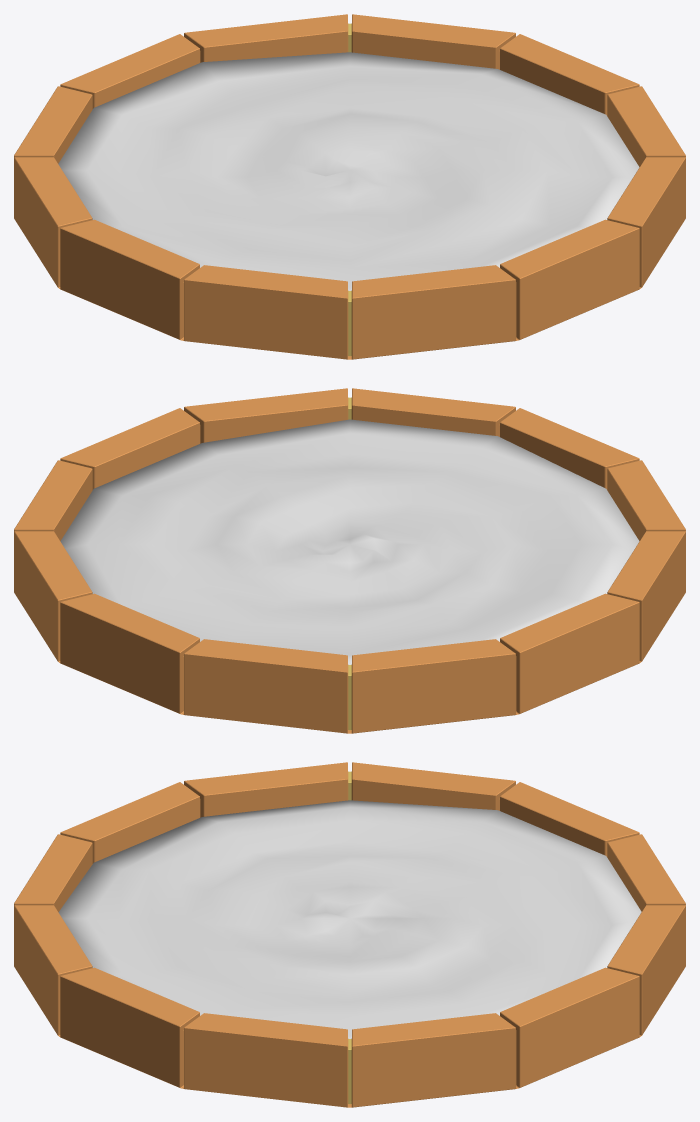
The model's file is pool.fbx.
The picture shows the model from 3 angles, top to bottom: view 1: azimuth 30°, elevation 25°; view 2: azimuth 150°, elevation 25°; view 3: azimuth 270°, elevation 25°; orthographic projection.
Visible parts, largest first — view 1: Circle.001, Circle; view 2: Circle.001, Circle; view 3: Circle.001, Circle.
Boxes of the visible parts, x1=… form: Circle.001: x1=58, y1=52, x2=639, y2=290; Circle: x1=14, y1=14, x2=685, y2=359; Circle.001: x1=60, y1=419, x2=639, y2=664; Circle: x1=14, y1=388, x2=685, y2=733; Circle.001: x1=58, y1=800, x2=641, y2=1038; Circle: x1=14, y1=762, x2=685, y2=1107.
Size of the model in its own units: 1.1 by 0.1115 by 1.1.
